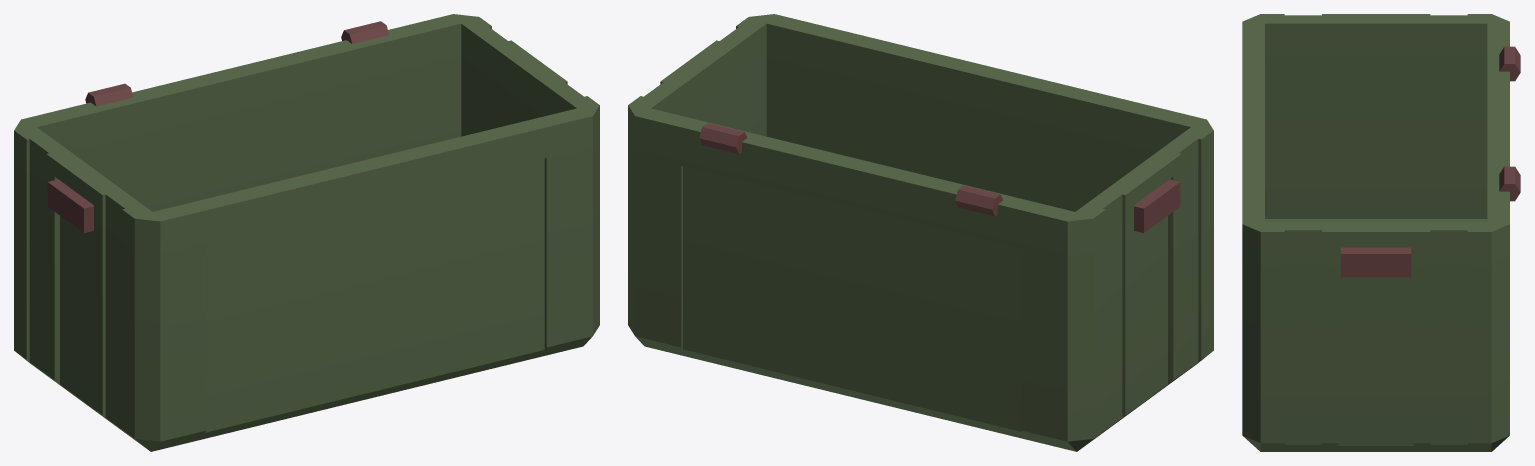
Rendered from AmoBox_01.glb.
3 renders of one model, left to right at view 1: azimuth 30°, elevation 25°; view 2: azimuth 150°, elevation 25°; view 3: azimuth 270°, elevation 25°, orthographic. The views are drawn at different scales.
Parts seen in each view (by area): view 1: AmoBox_01; view 2: AmoBox_01; view 3: AmoBox_01.
Boxes of the visible parts, bbox=[...] form: AmoBox_01: bbox=[14, 14, 599, 451]; AmoBox_01: bbox=[628, 14, 1213, 451]; AmoBox_01: bbox=[1242, 14, 1520, 451].
Size of the model in its own units: 0.978 by 0.4751 by 0.5092.
Materials: 1 (1 with a texture image).
